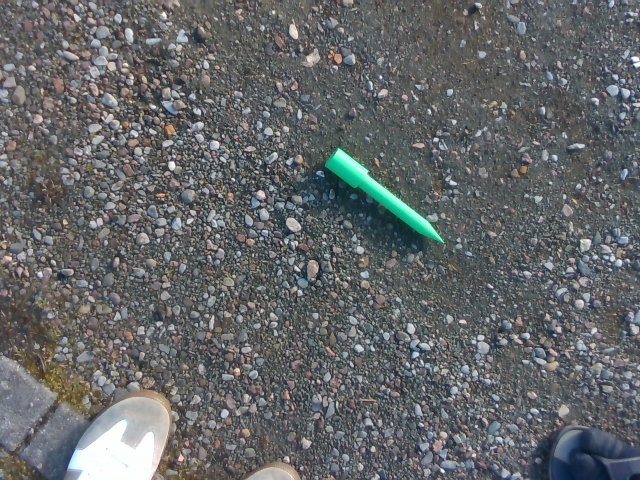Probe: (320, 141, 452, 250)
